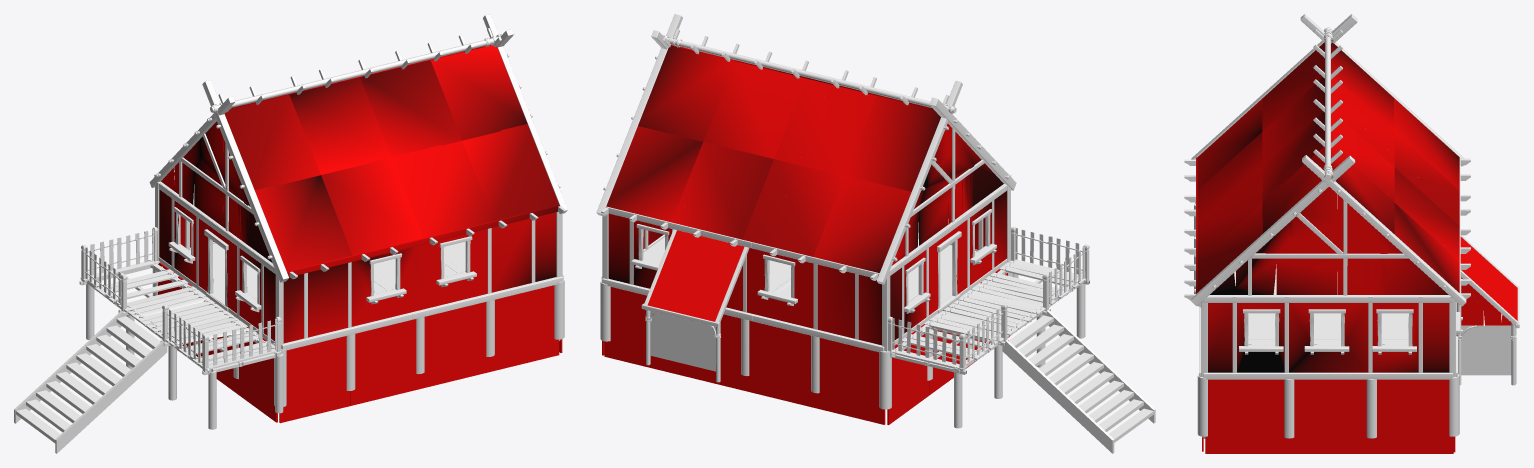
The model's file is SM_House_Prefab_05.fbx.
The picture shows the model from 3 angles, left to right: view 1: azimuth 30°, elevation 25°; view 2: azimuth 150°, elevation 25°; view 3: azimuth 270°, elevation 25°; orthographic projection. The views are drawn at different scales.
Parts seen in each view (by area): view 1: SM_House_Prefab_05_LOD0; view 2: SM_House_Prefab_05_LOD0; view 3: SM_House_Prefab_05_LOD0.
Part boxes in pixels (x1,y1,x2,y2): SM_House_Prefab_05_LOD0: (14, 14, 567, 453); SM_House_Prefab_05_LOD0: (596, 14, 1155, 453); SM_House_Prefab_05_LOD0: (1184, 14, 1519, 453).
Size of the model in its own units: 1677 by 1001 by 1026.
